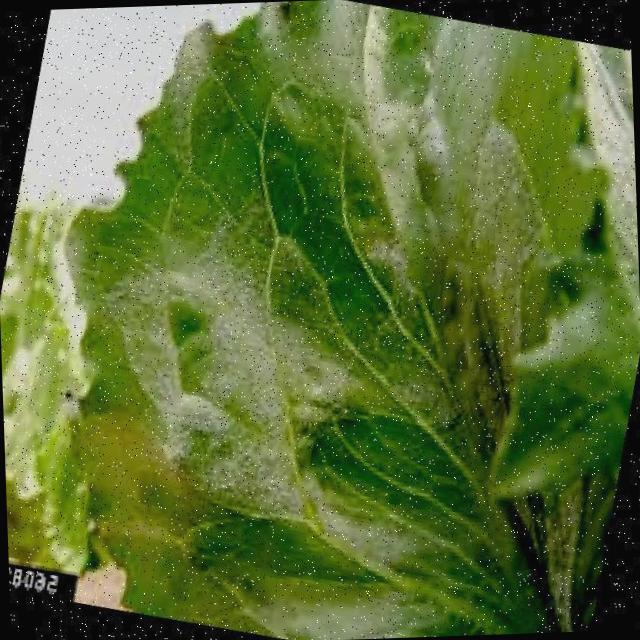Powdery_mildew_on_lettuce: (73, 159, 500, 601)
